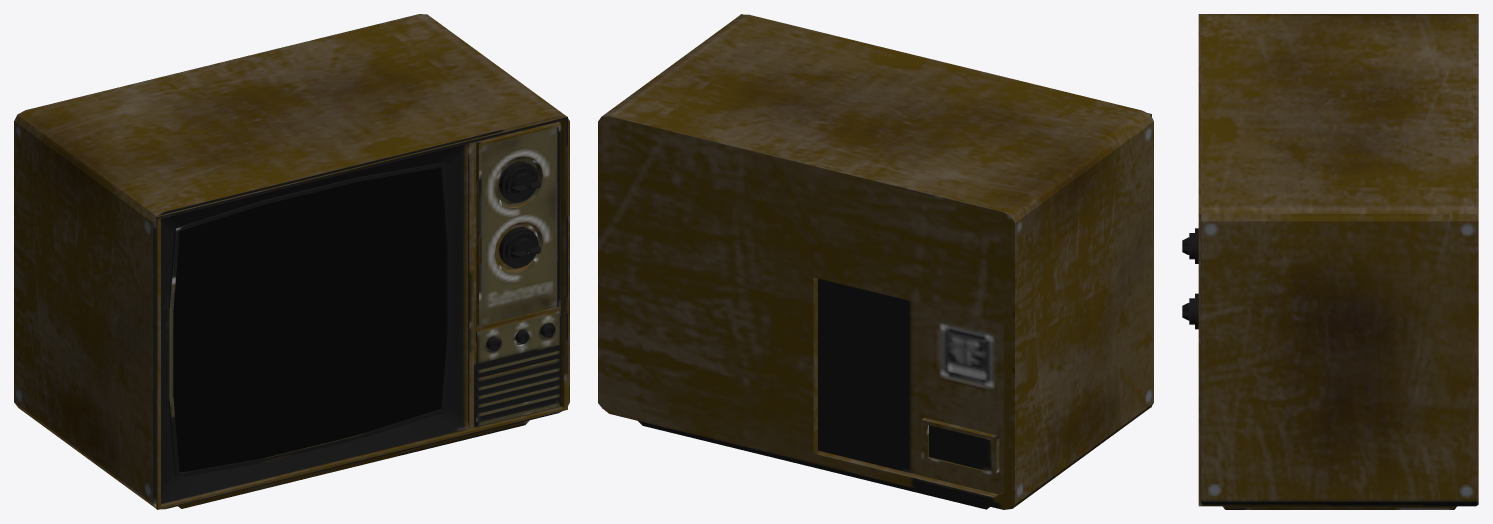
Rendered from dirtyTV.glb.
The picture shows the model from 3 angles, left to right: view 1: azimuth 30°, elevation 25°; view 2: azimuth 150°, elevation 25°; view 3: azimuth 270°, elevation 25°; orthographic projection.
Parts seen in each view (by area): view 1: dirtyTVBox, dirtyTVScreen; view 2: dirtyTVBox; view 3: dirtyTVBox.
Boxes of the visible parts, box(x1,y1,x2,y2) form: dirtyTVBox: box(14, 14, 569, 509); dirtyTVScreen: box(173, 167, 446, 472); dirtyTVBox: box(598, 14, 1153, 509); dirtyTVBox: box(1182, 14, 1478, 509).
Size of the model in its own units: 2.3 by 1.65 by 1.42.
2 materials, 1 textured.
